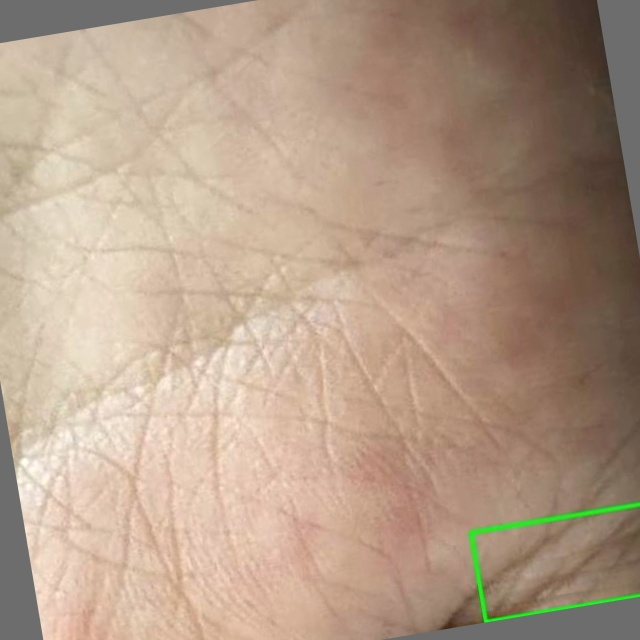Contact Dermatitis: (471, 504, 639, 621)
